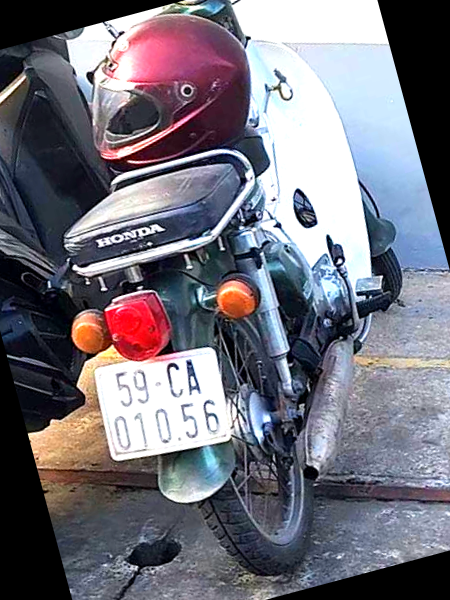number: (91, 346, 231, 461)
